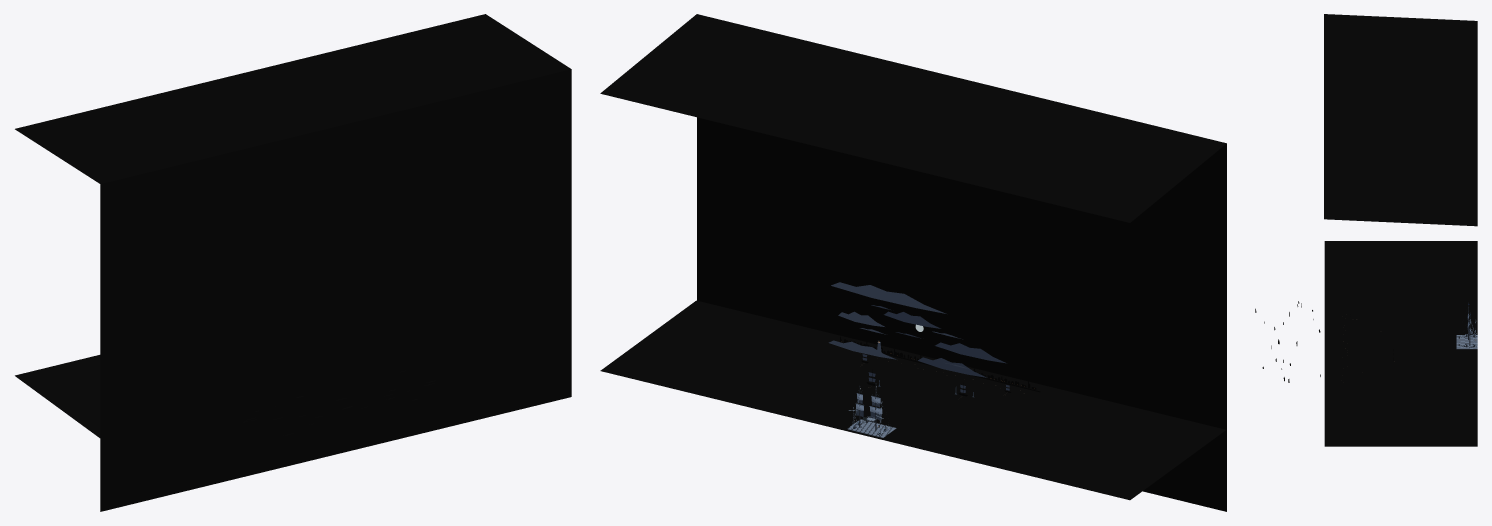
The model's file is CaptainCg_v3.fbx.
3 renders of one model, left to right at view 1: azimuth 30°, elevation 25°; view 2: azimuth 150°, elevation 25°; view 3: azimuth 270°, elevation 25°, orthographic. The views are drawn at different scales.
Parts seen in each view (by area): view 1: far_sky, far_sky_overhead, far_sea; view 2: far_sky, far_sky_overhead, far_sea, thick_cloud_4; view 3: far_sky_overhead, far_sea, deck_planks.
Boxes of the visible parts, <box> form: far_sky: <box>100,69,571,511</box>; far_sky_overhead: <box>15,14,571,183</box>; far_sea: <box>15,355,100,437</box>; far_sky: <box>697,117,1226,511</box>; far_sky_overhead: <box>600,14,1226,222</box>; far_sea: <box>600,300,1225,500</box>; thick_cloud_4: <box>831,282,946,313</box>; far_sky_overhead: <box>1324,14,1477,226</box>; far_sea: <box>1324,241,1477,446</box>; deck_planks: <box>1456,335,1477,348</box>.
Size of the model in its own units: 632 by 420 by 289.
